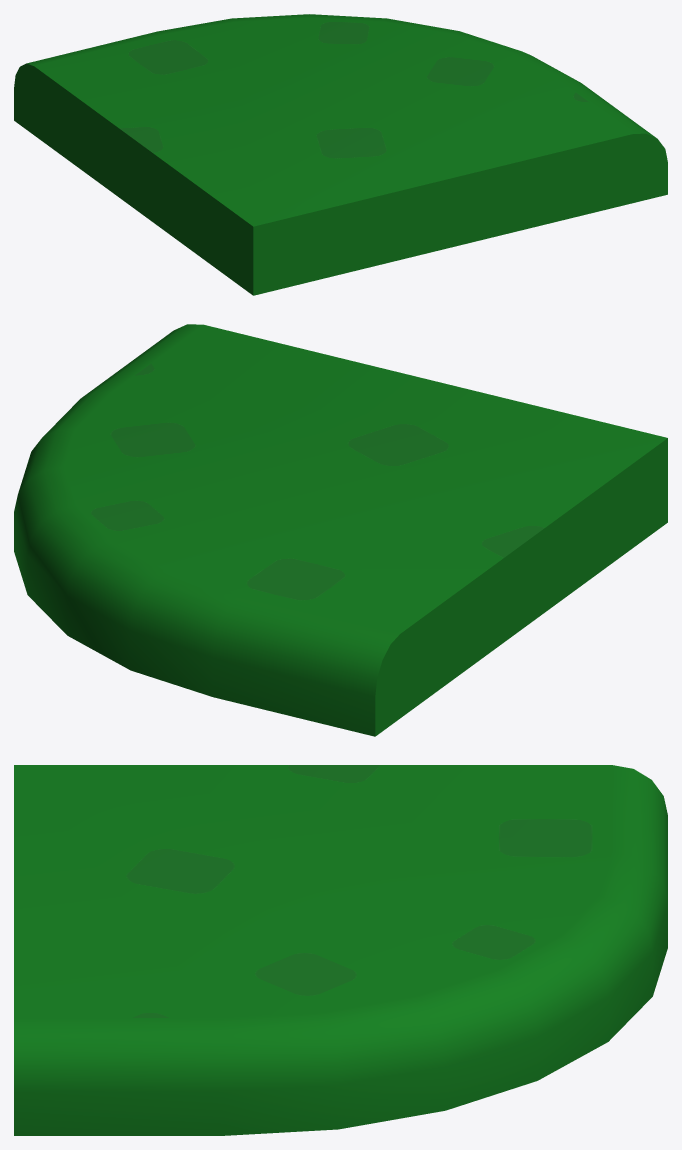
Rendered from GF_Corner_1_3.obj.
The picture shows the model from 3 angles, top to bottom: view 1: azimuth 30°, elevation 25°; view 2: azimuth 150°, elevation 25°; view 3: azimuth 270°, elevation 25°; orthographic projection. The views are drawn at different scales.
Parts seen in each view (by area): view 1: GF_Corner_1_3; view 2: GF_Corner_1_3; view 3: GF_Corner_1_3.
Boxes of the visible parts, bbox=[...] form: GF_Corner_1_3: bbox=[14, 14, 667, 295]; GF_Corner_1_3: bbox=[14, 324, 667, 736]; GF_Corner_1_3: bbox=[14, 765, 667, 1135].
Bounding box in the file's own units: 2 × 0.3187 × 2.
